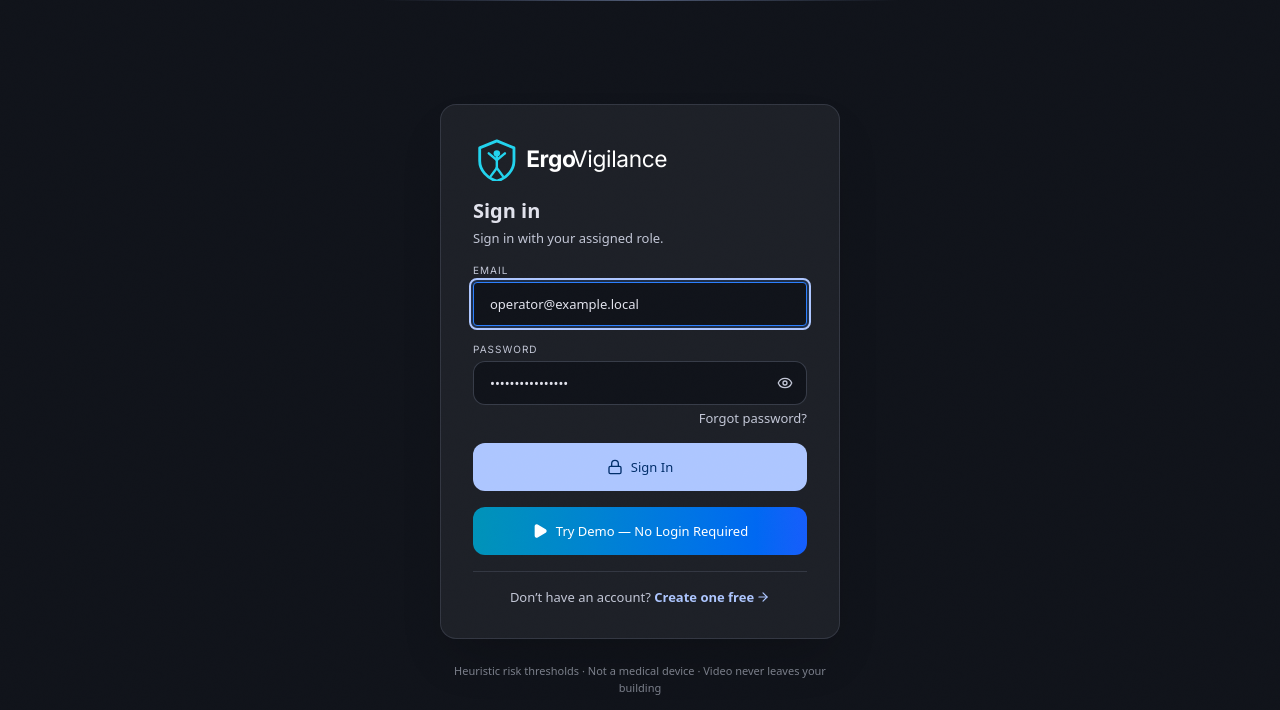
frontend smoke › renders the reports page
This screenshot has width=1280, height=710.
expect the heading "Sign in" is shown: met, box [473,197,540,224]
Step 1. Click the button "Sign In" → point(640, 467), box [473,443,807,491]
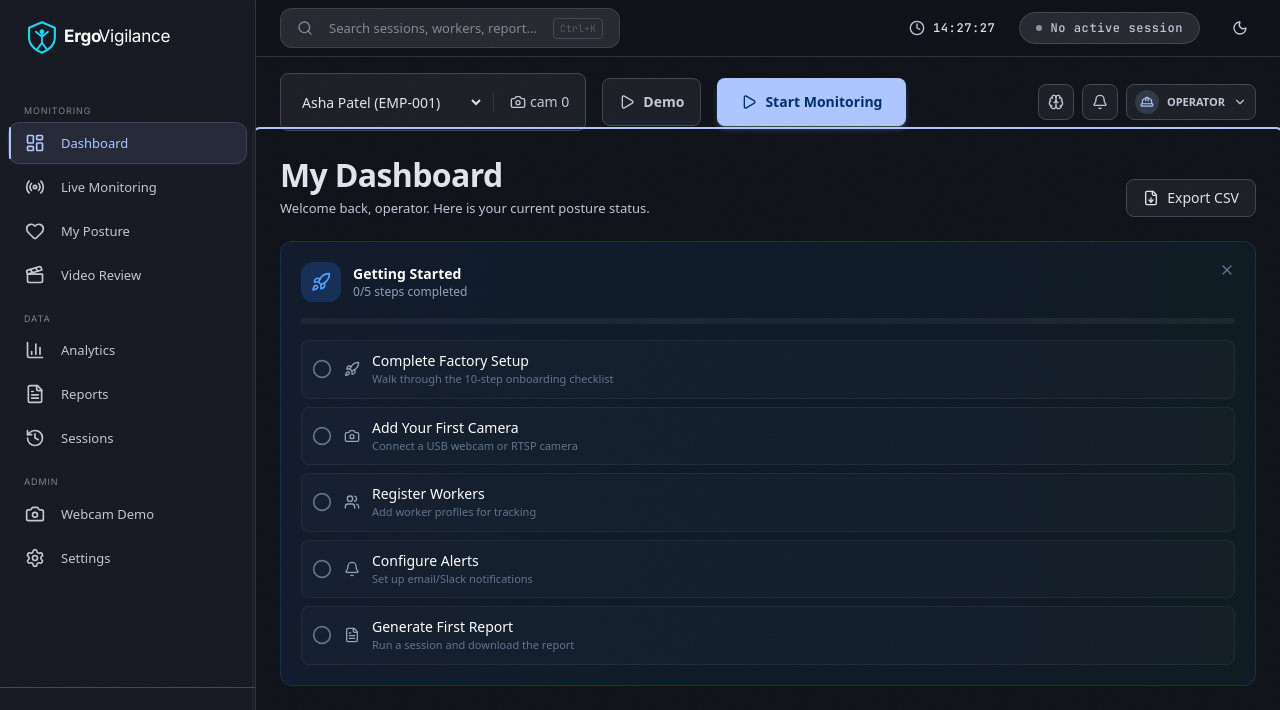
expect the heading "My Dashboard" is shown: met, box [280,153,502,196]
Step 2. Click the link "Reports" → point(67, 394), box [25,384,109,404]
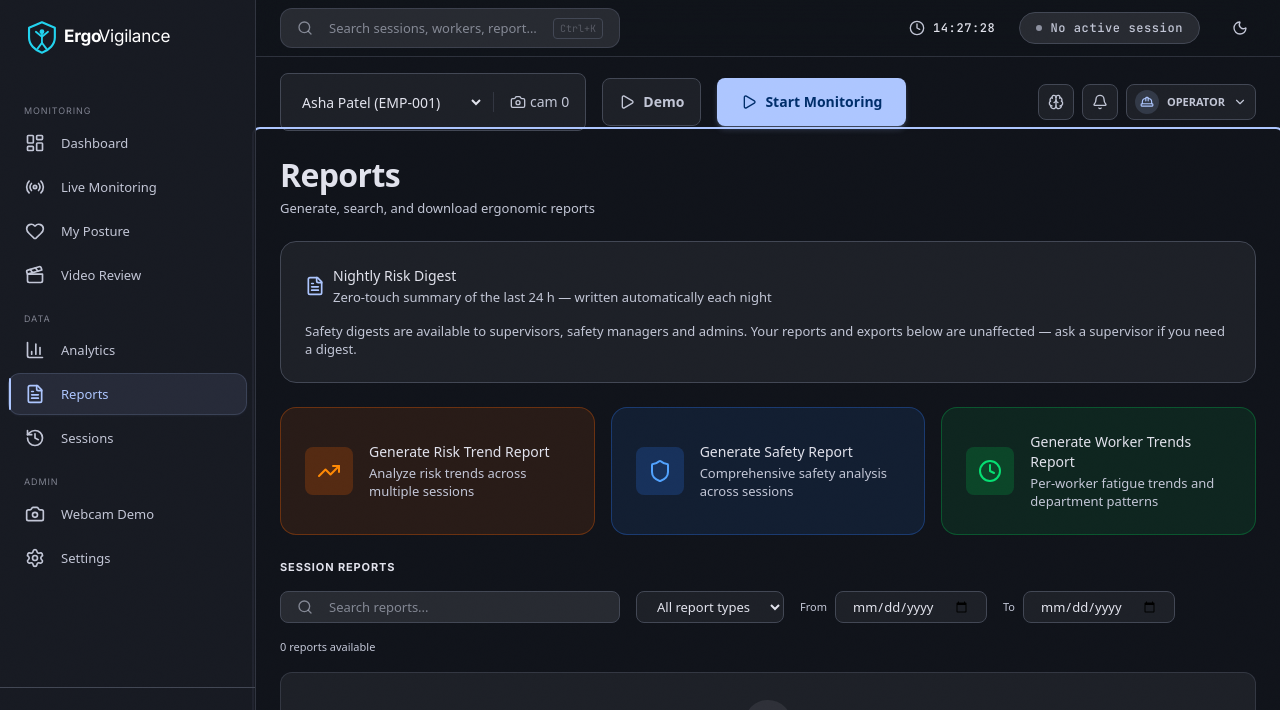
expect the text "Generate, search, and download ergonomic reports" is shown: met, box [280,199,595,217]
